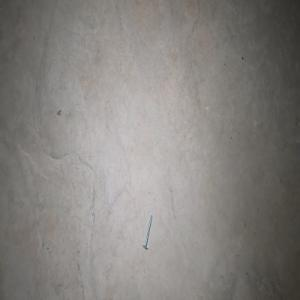Bolt: (142, 213, 152, 249)
